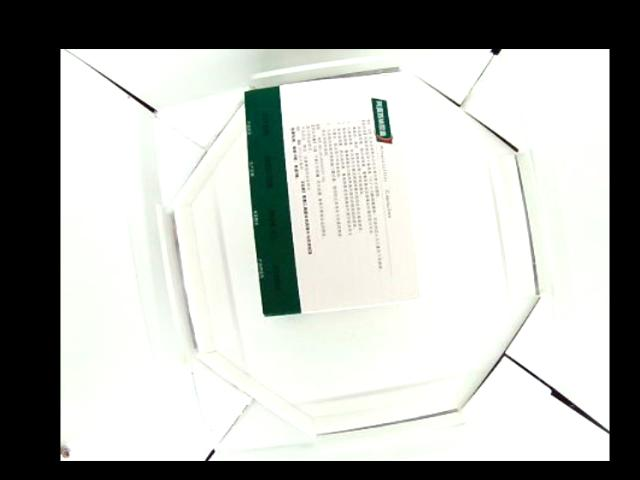Medicine: (243, 78, 424, 318)
